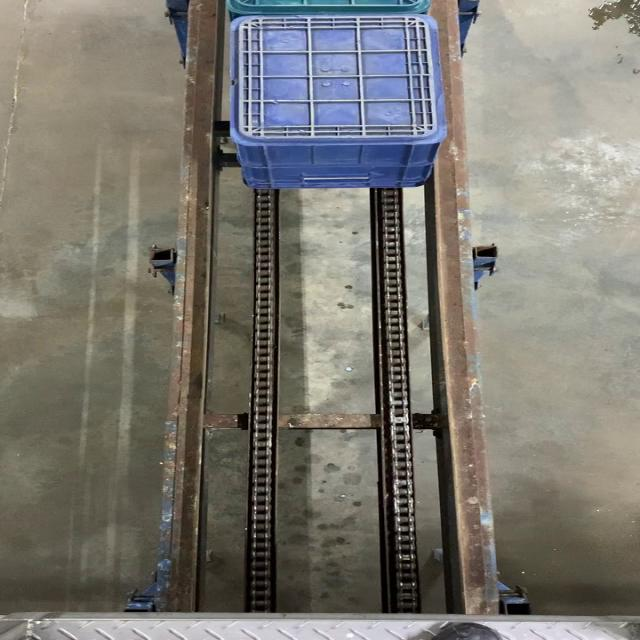Box: (232, 15, 444, 140)
